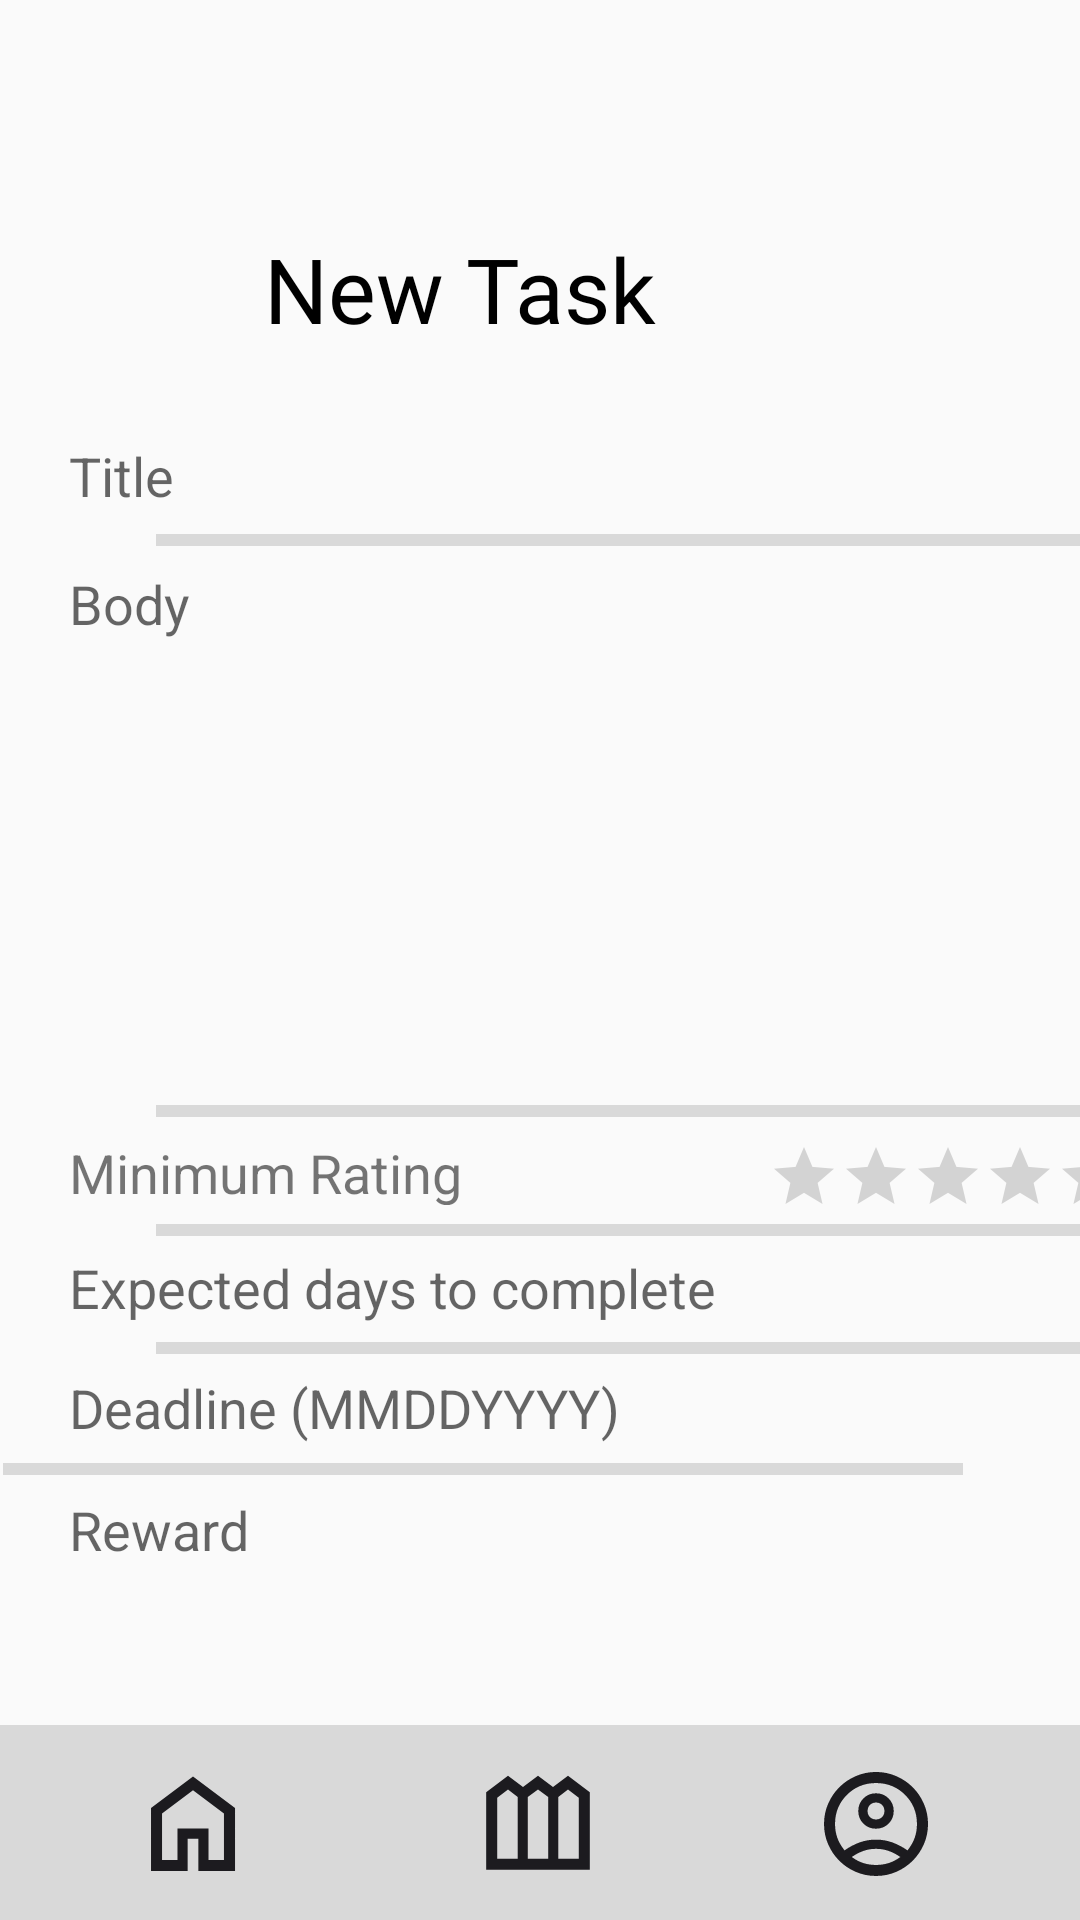

Locate icon controls on the screen. Image size 1080x1920, boxes as (x1, y1, x2, y2).
home: (151, 1776, 235, 1871)
